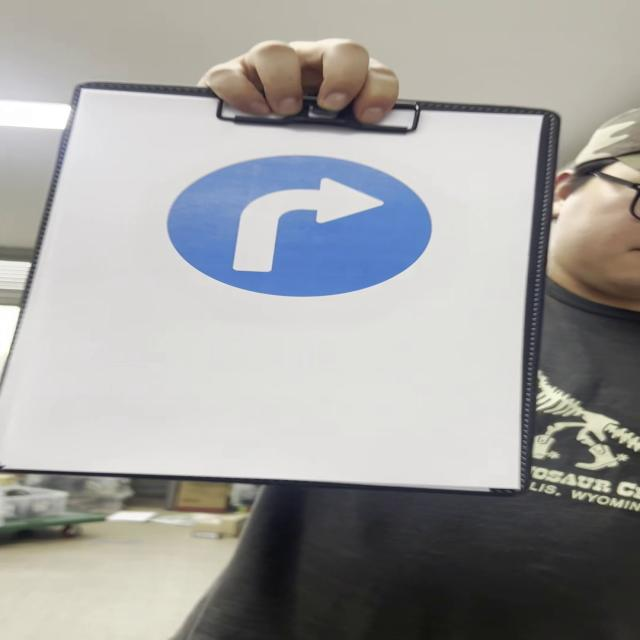right: (170, 156, 438, 301)
